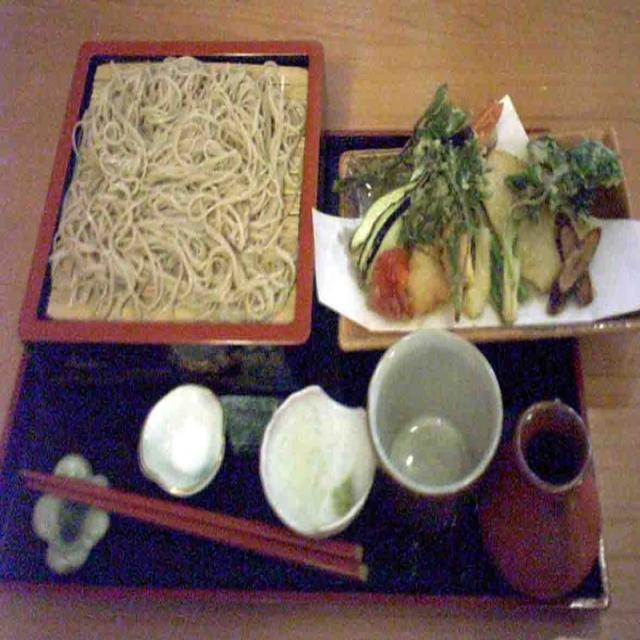面条主食: (13, 33, 330, 387)
